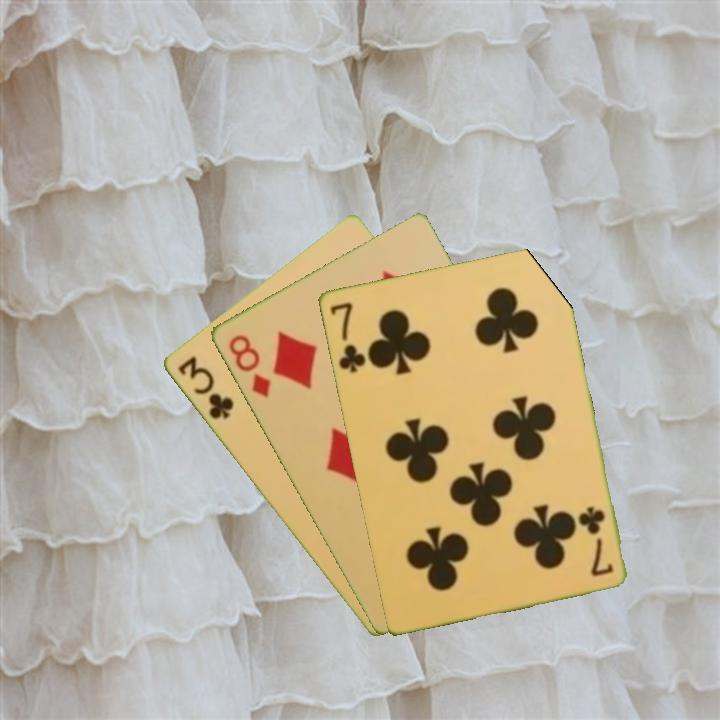3c: (173, 352, 236, 423)
7c: (326, 298, 368, 376), (576, 502, 616, 579)
8d: (224, 330, 273, 401)
